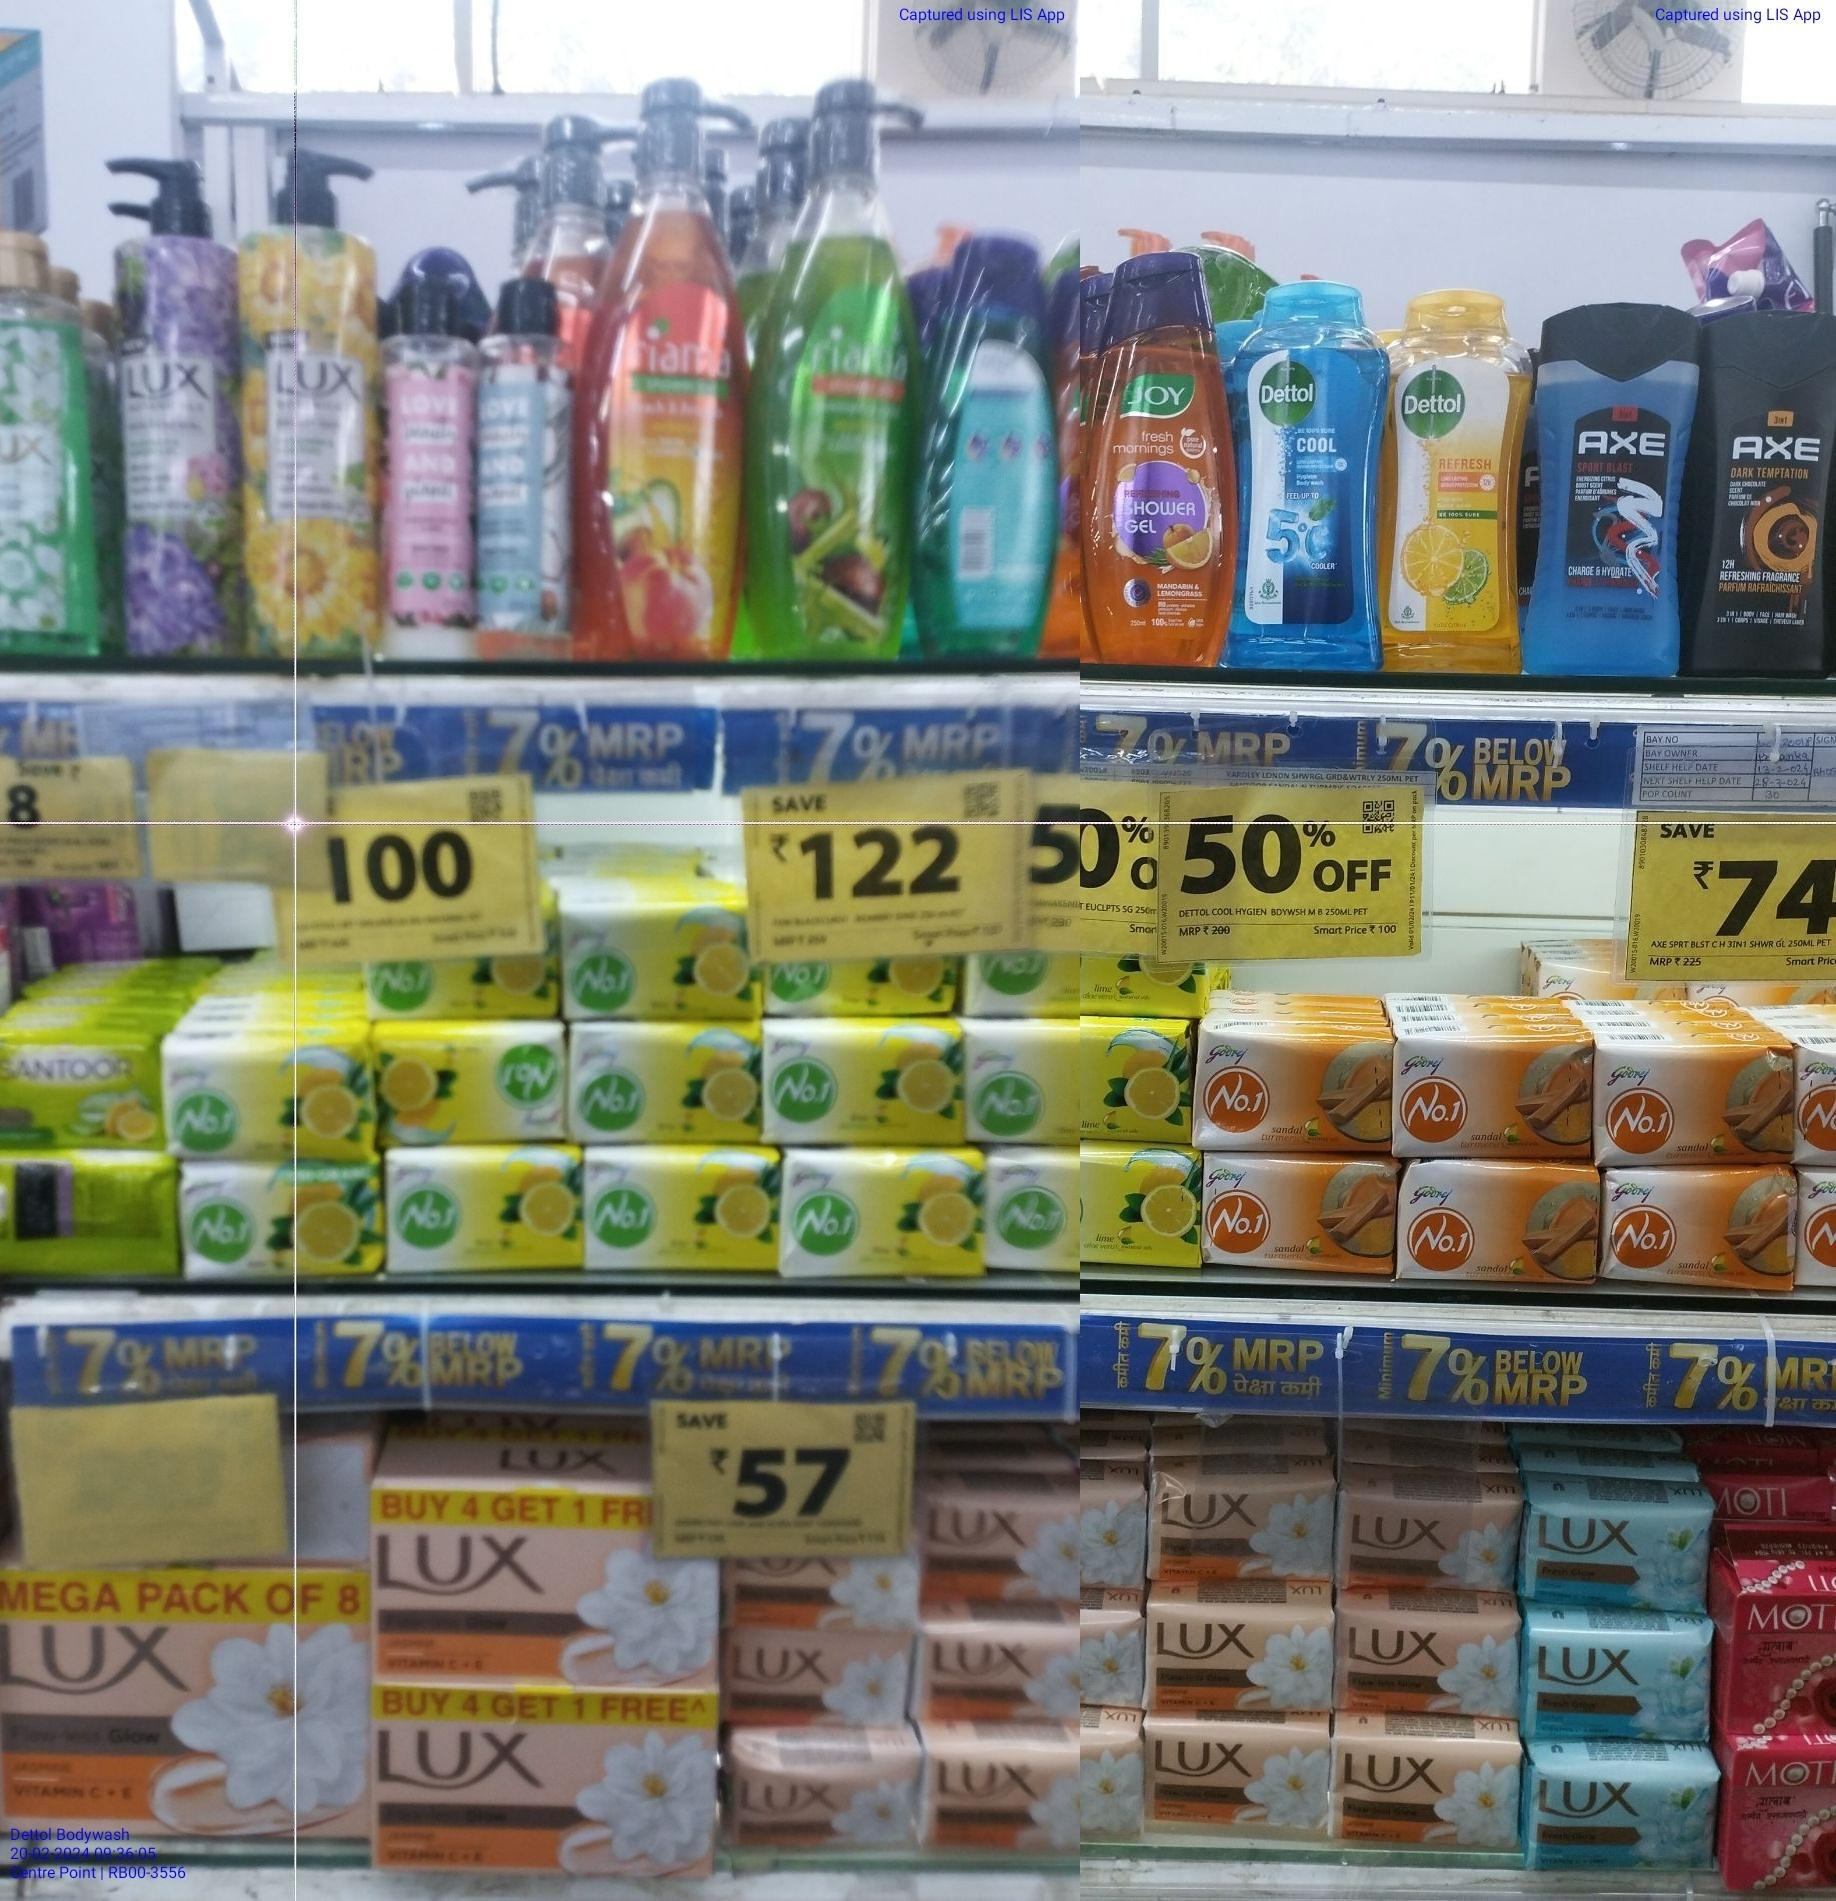Dettol_Bodywash_Cool: (1261, 283, 1386, 672)
Dettol_Bodywash_Refresh: (1403, 290, 1529, 672)
Joy_Shower_Gel_Mandarin_and_Lemongrass_250ML: (1093, 238, 1237, 687)
